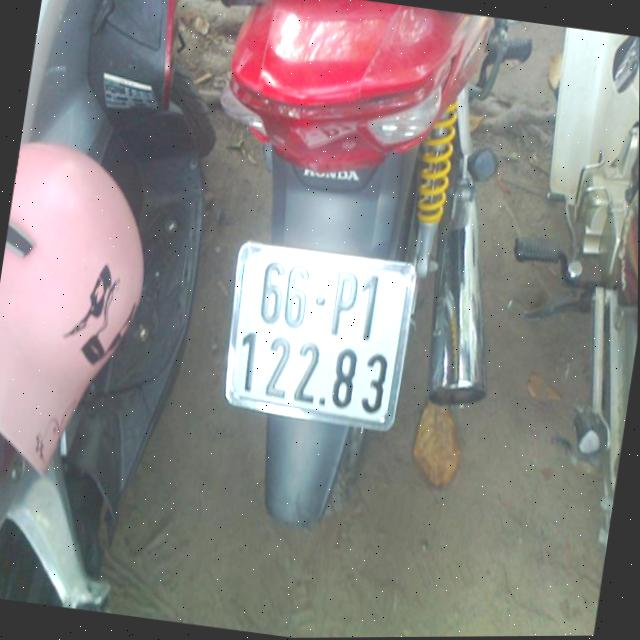motorcycle: (141, 0, 545, 550), (467, 25, 640, 572)
plate: (211, 236, 418, 435)
